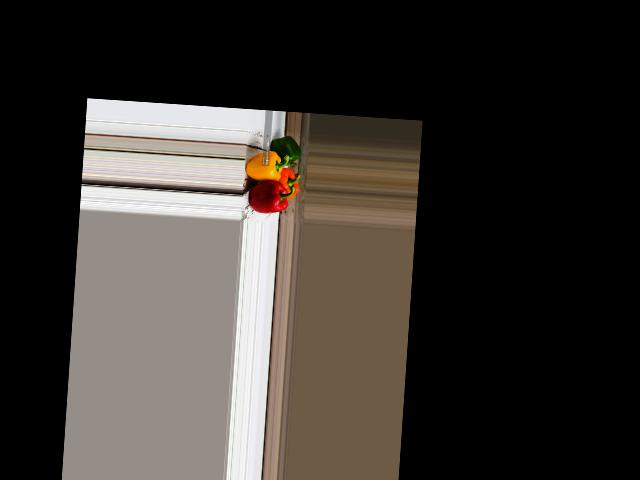bell_pepper: (276, 166, 301, 200)
